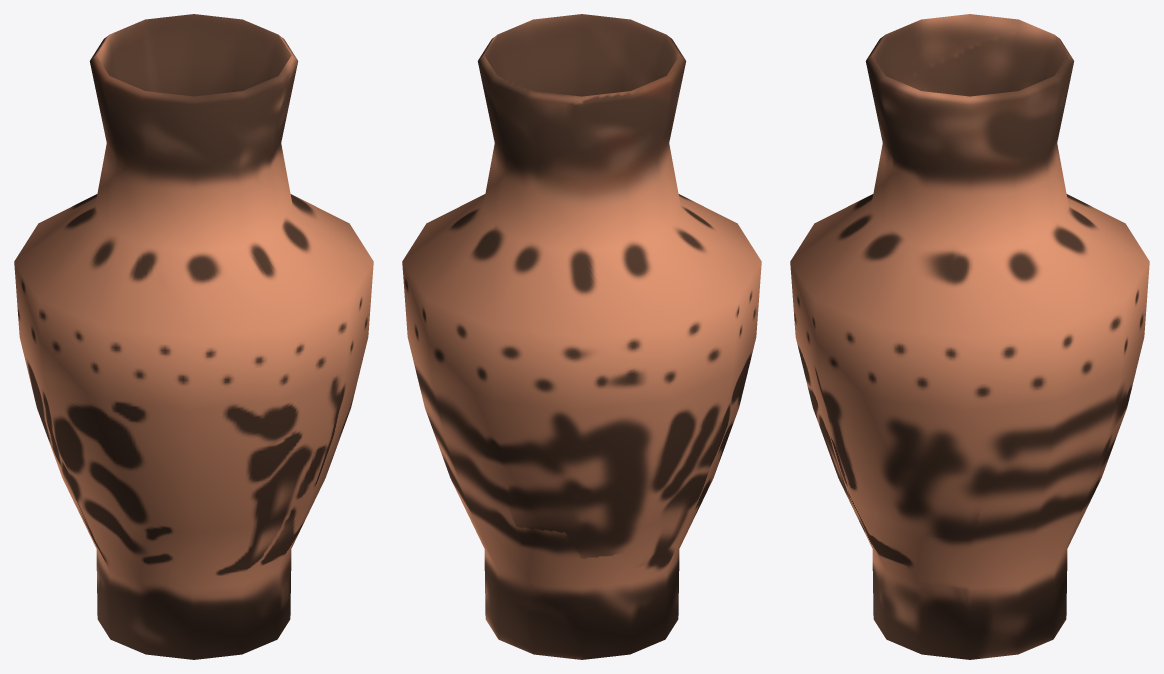
Rendered from Vase.fbx.
3 renders of one model, left to right at view 1: azimuth 30°, elevation 25°; view 2: azimuth 150°, elevation 25°; view 3: azimuth 270°, elevation 25°, orthographic.
Parts seen in each view (by area): view 1: Vase; view 2: Vase; view 3: Vase.
Part boxes in pixels (x1=…): Vase: x1=14, y1=14, x2=373, y2=659; Vase: x1=402, y1=14, x2=761, y2=659; Vase: x1=790, y1=14, x2=1149, y2=659.
Bounding box in the file's own units: 183 × 317 × 183.
